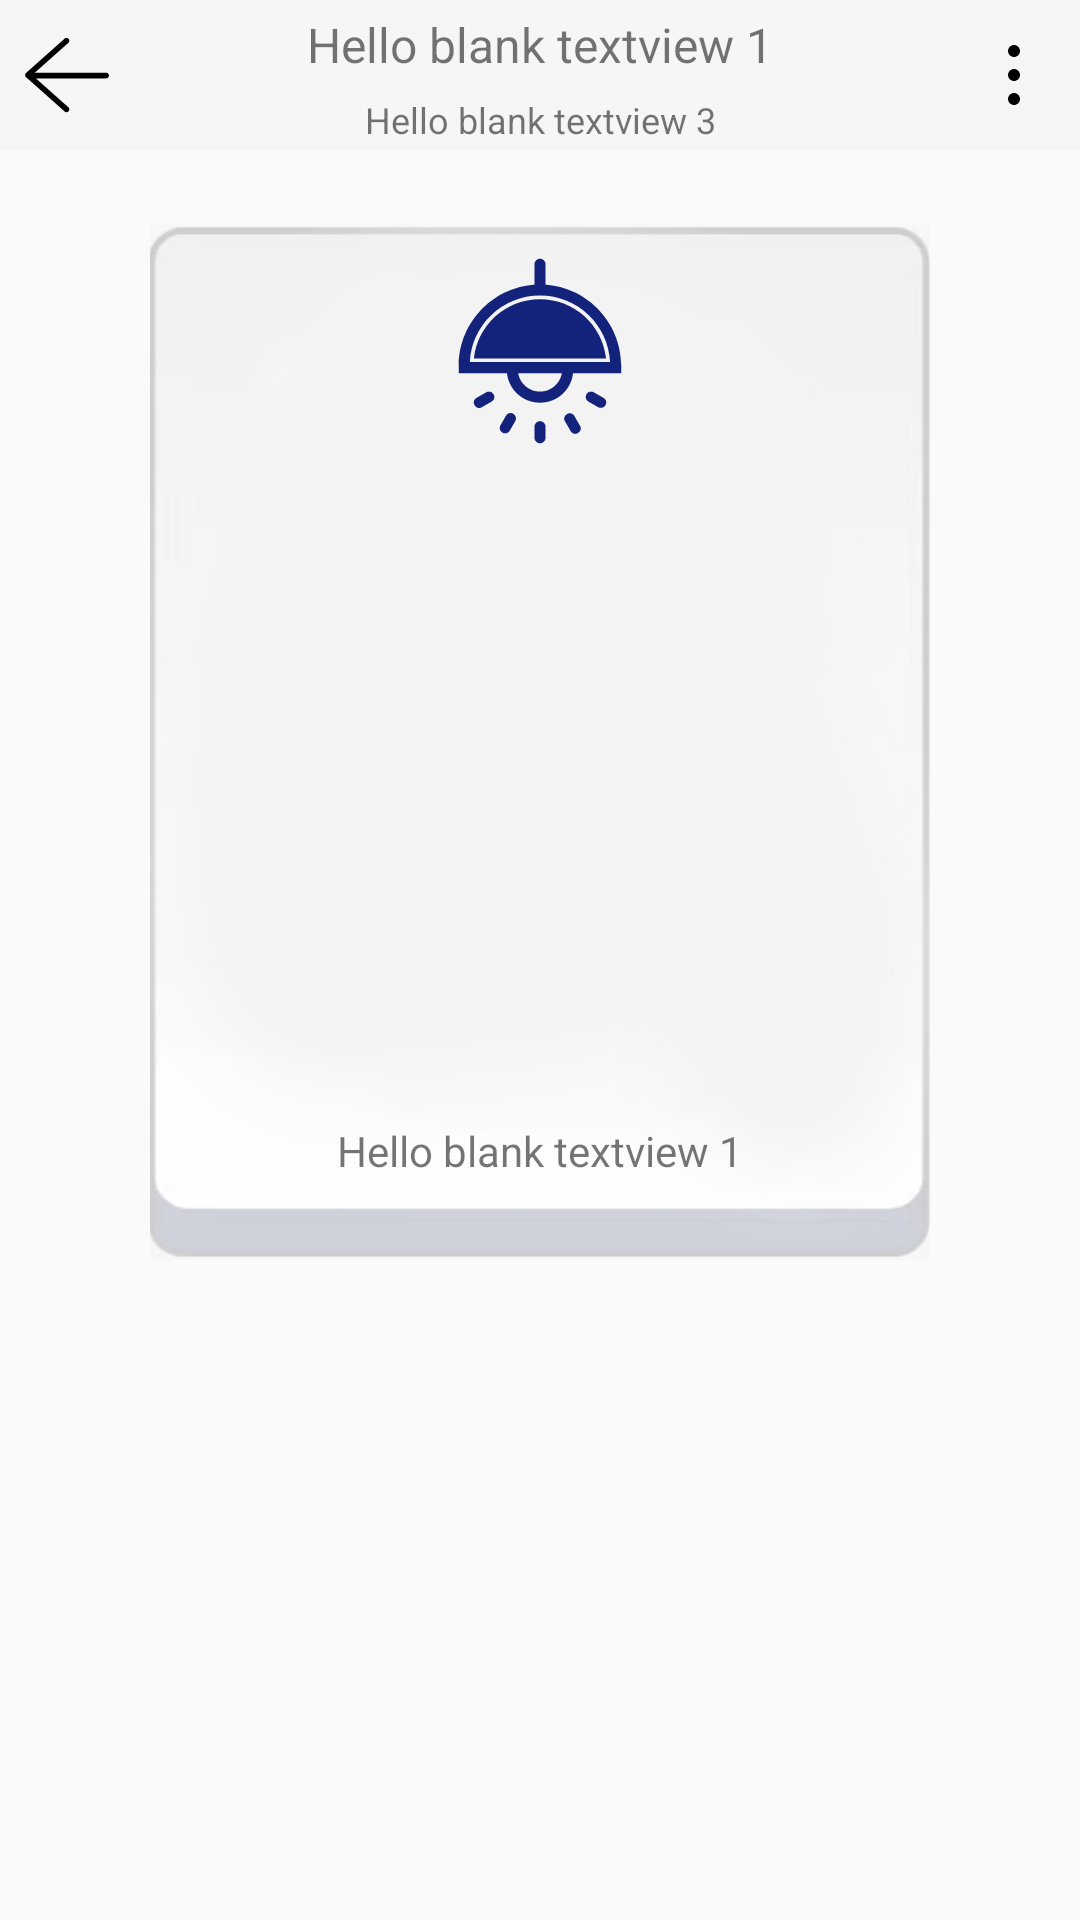

Named icons in this screenshot (1080x1920) and their bounding boxes, bbox=[x1, y1, x2, y2]:
back: bbox=[25, 38, 109, 113]
more: bbox=[1008, 45, 1020, 105]
